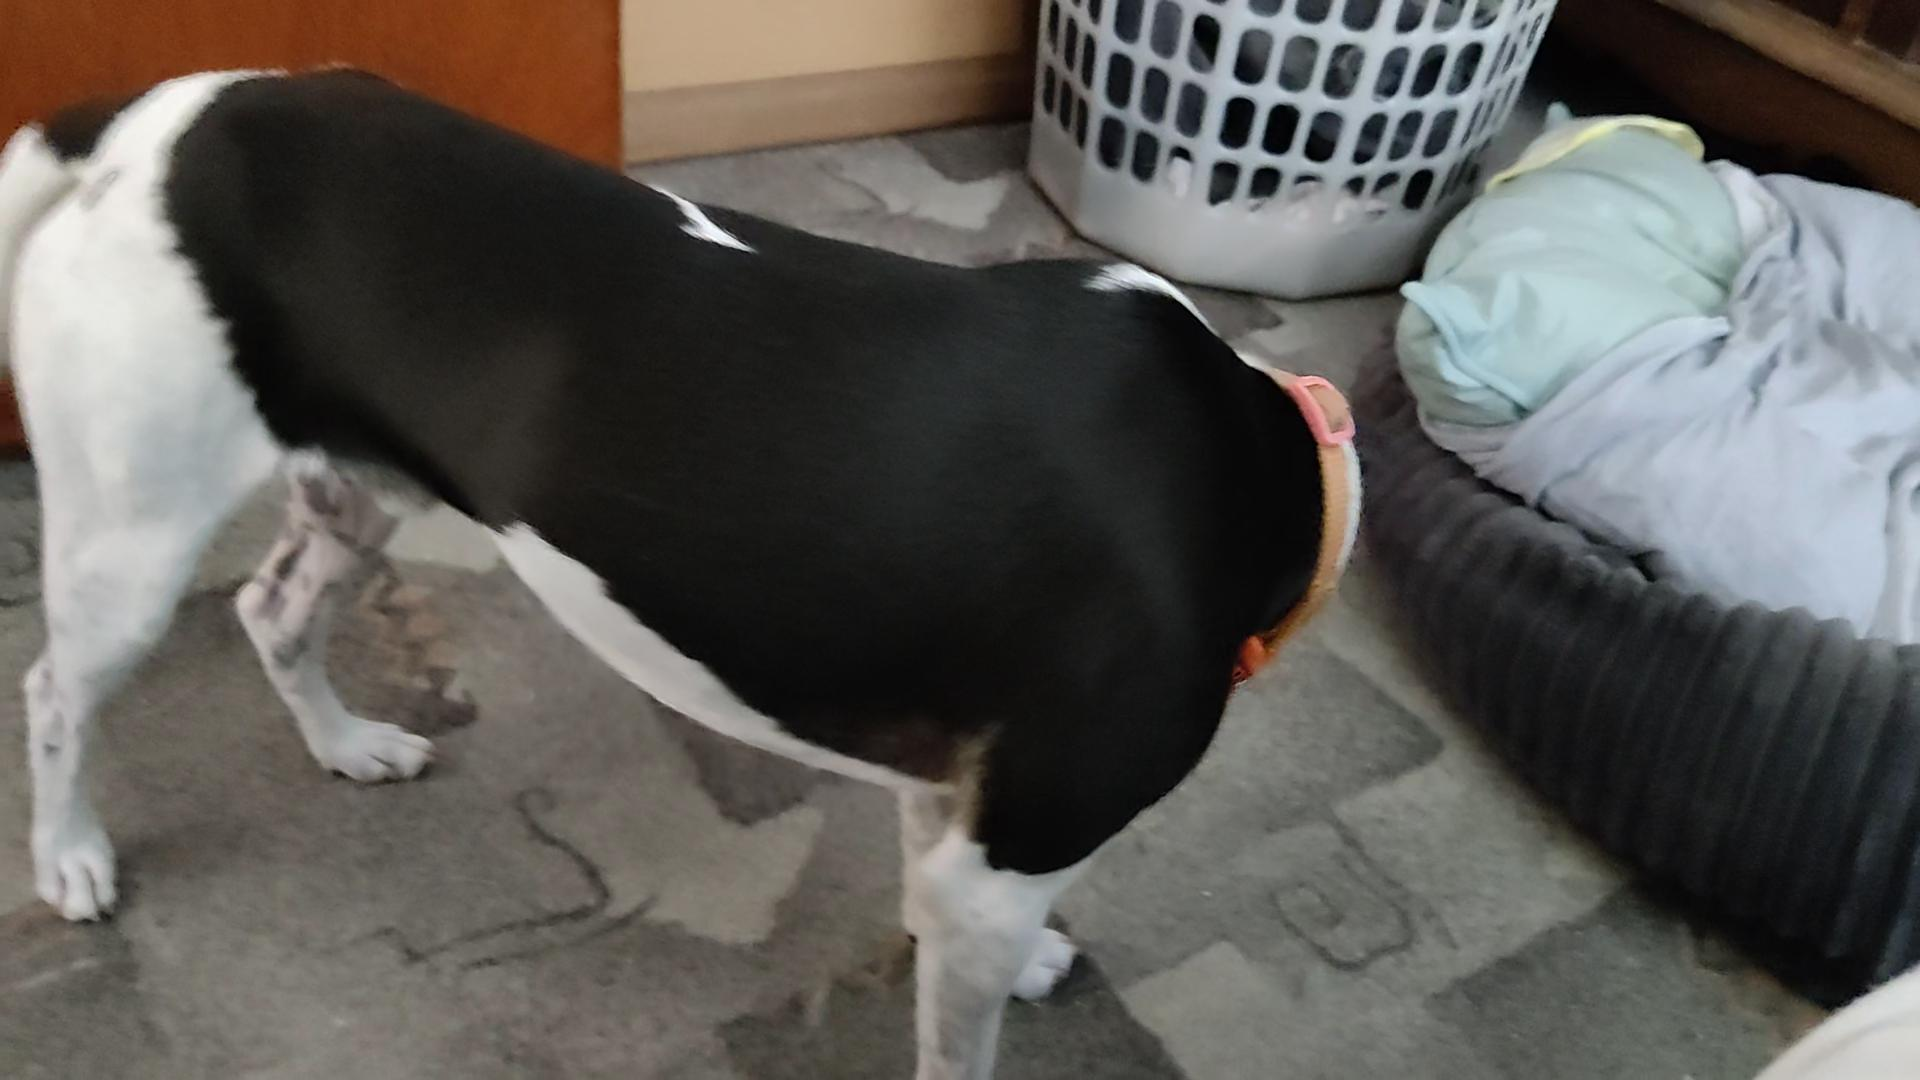Dog: (0, 54, 1385, 1079)
